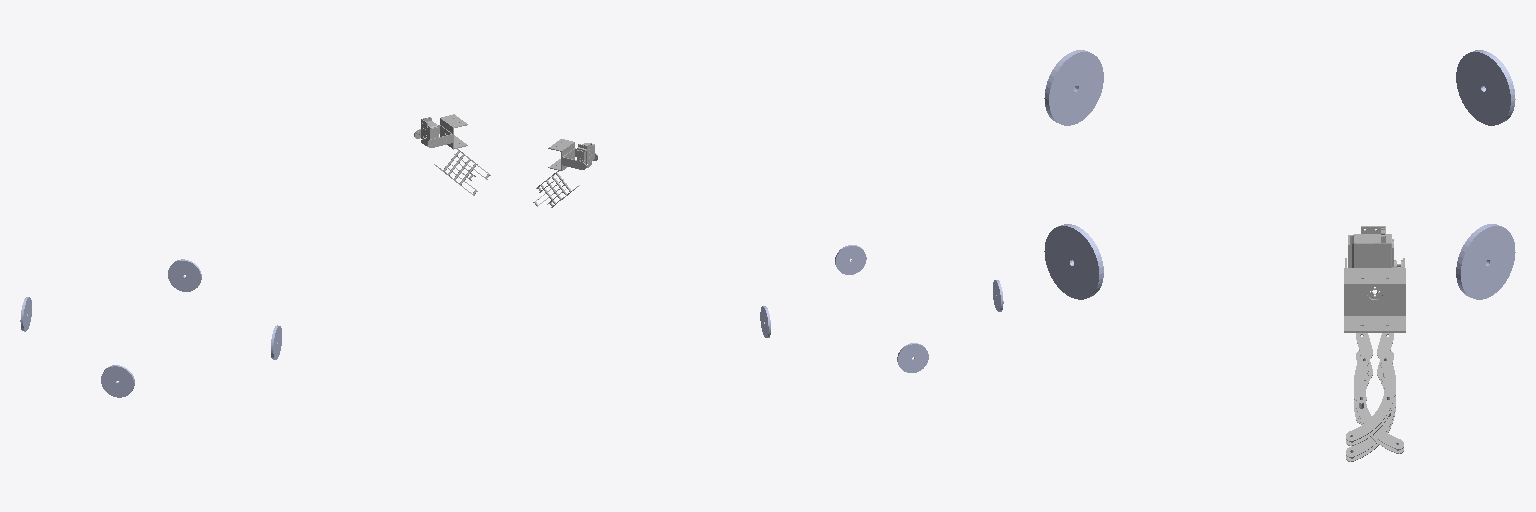
robot.urdf — homeplus_urdf:

<robot name="homeplus_urdf">
  <link name="world"/>
  <joint name="base_x" type="prismatic">
    <parent link="world"/>
    <child link="base_x_link"/>
    <origin xyz="0 0 0" rpy="0 0 0"/>
    <axis xyz="1 0 0"/>
    <limit lower="-10" upper="10" effort="1000" velocity="1"/>
  </joint>
  <link name="base_x_link"/>
  <joint name="base_y" type="prismatic">
    <parent link="base_x_link"/>
    <child link="base_y_link"/>
    <origin xyz="0 0 0" rpy="0 0 0"/>
    <axis xyz="0 1 0"/>
    <limit lower="-10" upper="10" effort="1000" velocity="1"/>
  </joint>
  <link name="base_y_link"/>
  <joint name="base_theta" type="continuous">
    <parent link="base_y_link"/>
    <child link="base"/>
    <origin xyz="0 0 0" rpy="0 0 0"/>
    <axis xyz="0 0 1"/>
    <limit effort="1000" velocity="1"/>
  </joint>
  
  <link
    name="base">
    <inertial>
      <origin
        xyz="5.36687302932215E-07 5.36687302016281E-07 0.0698335734039721"
        rpy="0 0 0" />
      <mass
        value="1.93599733287841" />
      <inertia
        ixx="0.00763024520313416"
        ixy="5.63522720337797E-07"
        ixz="3.13778475182127E-09"
        iyy="0.0075494508667239"
        iyz="-3.13792658746155E-09"
        izz="0.002529154108625" />
    </inertial>
    <visual>
      <origin
        xyz="0 0 0"
        rpy="0 0 0" />
      <geometry>
        <mesh
          filename="package://homeplus_urdf/meshes/base.STL" />
      </geometry>
      <material
        name="">
        <color
          rgba="0.752941176470588 0.752941176470588 0.752941176470588 1" />
      </material>
    </visual>
    <collision>
      <origin
        xyz="0 0 0"
        rpy="0 0 0" />
      <geometry>
        <mesh
          filename="package://homeplus_urdf/meshes/base.STL" />
      </geometry>
    </collision>
  </link>
  <link
    name="Frame">
    <inertial>
      <origin
        xyz="0.201896542252504 0.0799990907117468 -0.0342714033622259"
        rpy="0 0 0" />
      <mass
        value="3.29967833042039" />
      <inertia
        ixx="0.0339685155112727"
        ixy="2.44583411704262E-06"
        ixz="-0.00082022948549501"
        iyy="0.0344616286643939"
        iyz="4.66669657135815E-11"
        izz="0.00669916365911231" />
    </inertial>
    <visual>
      <origin
        xyz="0 0 0"
        rpy="0 0 0" />
      <geometry>
        <mesh
          filename="package://homeplus_urdf/meshes/Frame.STL" />
      </geometry>
      <material
        name="">
        <color
          rgba="0.752941176470588 0.752941176470588 0.752941176470588 1" />
      </material>
    </visual>
    <collision>
      <origin
        xyz="0 0 0"
        rpy="0 0 0" />
      <geometry>
        <mesh
          filename="package://homeplus_urdf/meshes/Frame.STL" />
      </geometry>
    </collision>
  </link>
  <joint
    name="JointFrame"
    type="prismatic">
    <origin
      xyz="-0.18 -0.08398 0.283"
      rpy="0 0 0" />
    <parent
      link="base" />
    <child
      link="Frame" />
    <axis
      xyz="0 0 1" />
    <limit
      lower="0"
      upper="0.15"
      effort="1"
      velocity="1" />
  </joint>
  <link
    name="Telescope">
    <inertial>
      <origin
        xyz="0.000771729775495889 0.000437143680824342 -0.104187938876505"
        rpy="0 0 0" />
      <mass
        value="0.251949298778275" />
      <inertia
        ixx="0.00285644942984616"
        ixy="8.99244714545801E-11"
        ixz="-1.6278133894529E-09"
        iyy="0.00286169389796737"
        iyz="9.5798002526495E-08"
        izz="3.17904819039154E-05" />
    </inertial>
    <visual>
      <origin
        xyz="0 0 0"
        rpy="0 0 0" />
      <geometry>
        <mesh
          filename="package://homeplus_urdf/meshes/Telescope.STL" />
      </geometry>
      <material
        name="">
        <color
          rgba="0.752941176470588 0.752941176470588 0.752941176470588 1" />
      </material>
    </visual>
    <collision>
      <origin
        xyz="0 0 0"
        rpy="0 0 0" />
      <geometry>
        <mesh
          filename="package://homeplus_urdf/meshes/Telescope.STL" />
      </geometry>
    </collision>
  </link>
  <joint
    name="JointTelescope"
    type="prismatic">
    <origin
      xyz="0.285 0.08398 0.477"
      rpy="0 0 0" />
    <parent
      link="Frame" />
    <child
      link="Telescope" />
    <axis
      xyz="0 0 1" />
    <limit
      lower="0"
      upper="0.43"
      effort="1"
      velocity="1" />
  </joint>
  <link
    name="Arm1">
    <inertial>
      <origin
        xyz="0.231608117533619 0.0255523612695389 -0.231607123025033"
        rpy="0 0 0" />
      <mass
        value="0.142458692559679" />
      <inertia
        ixx="0.000344048781743376"
        ixy="6.78781398843054E-08"
        ixz="0.000303370900150246"
        iyy="0.000670896160973874"
        iyz="-6.8032670316871E-08"
        izz="0.000344045727501834" />
    </inertial>
    <visual>
      <origin
        xyz="0 0 0"
        rpy="0 0 0" />
      <geometry>
        <mesh
          filename="package://homeplus_urdf/meshes/Arm1.STL" />
      </geometry>
      <material
        name="">
        <color
          rgba="0.752941176470588 0.752941176470588 0.752941176470588 1" />
      </material>
    </visual>
    <collision>
      <origin
        xyz="0 0 0"
        rpy="0 0 0" />
      <geometry>
        <mesh
          filename="package://homeplus_urdf/meshes/Arm1.STL" />
      </geometry>
    </collision>
  </link>
  <joint
    name="JointArm1"
    type="revolute">
    <origin
      xyz="0 0.027951 0.093587"
      rpy="0 0 0" />
    <parent
      link="Telescope" />
    <child
      link="Arm1" />
    <axis
      xyz="0 -1 0" />
    <limit
      lower="-0.7854"
      upper="2.4435"
      effort="1"
      velocity="1" />
  </joint>
  <link
    name="Arm2">
    <inertial>
      <origin
        xyz="0.229877453875047 -0.00821863334885756 -0.231410969608228"
        rpy="0 0 0" />
      <mass
        value="0.116165387072632" />
      <inertia
        ixx="0.000263865689307406"
        ixy="1.15597043757505E-09"
        ixz="0.000220534688604804"
        iyy="0.000506000074754496"
        iyz="1.00178635705143E-09"
        izz="0.000264057896540768" />
    </inertial>
    <visual>
      <origin
        xyz="0 0 0"
        rpy="0 0 0" />
      <geometry>
        <mesh
          filename="package://homeplus_urdf/meshes/Arm2.STL" />
      </geometry>
      <material
        name="">
        <color
          rgba="0.752941176470588 0.752941176470588 0.752941176470588 1" />
      </material>
    </visual>
    <collision>
      <origin
        xyz="0 0 0"
        rpy="0 0 0" />
      <geometry>
        <mesh
          filename="package://homeplus_urdf/meshes/Arm2.STL" />
      </geometry>
    </collision>
  </link>
  <joint
    name="JointArm2"
    type="revolute">
    <origin
      xyz="0.31439 0.0665 -0.31439"
      rpy="0 0 0" />
    <parent
      link="Arm1" />
    <child
      link="Arm2" />
    <axis
      xyz="0 -1 0" />
    <limit
      lower="-1.274"
      upper="2.932"
      effort="1"
      velocity="1" />
  </joint>
  <link
    name="Wrist">
    <inertial>
      <origin
        xyz="0.00821485527606913 0.00862941103056888 -0.00834029232738279"
        rpy="0 0 0" />
      <mass
        value="0.0363561056351056" />
      <inertia
        ixx="8.21468554621405E-06"
        ixy="1.10422688179401E-07"
        ixz="-2.10661583523176E-06"
        iyy="6.65835103821054E-06"
        iyz="-4.81256546213012E-08"
        izz="8.21542228204658E-06" />
    </inertial>
    <visual>
      <origin
        xyz="0 0 0"
        rpy="0 0 0" />
      <geometry>
        <mesh
          filename="package://homeplus_urdf/meshes/Wrist.STL" />
      </geometry>
      <material
        name="">
        <color
          rgba="0.752941176470588 0.752941176470588 0.752941176470588 1" />
      </material>
    </visual>
    <collision>
      <origin
        xyz="0 0 0"
        rpy="0 0 0" />
      <geometry>
        <mesh
          filename="package://homeplus_urdf/meshes/Wrist.STL" />
      </geometry>
    </collision>
  </link>
  <joint
    name="JointWrist"
    type="revolute">
    <origin
      xyz="0.28806 -0.0175 -0.32191"
      rpy="0 0 0" />
    <parent
      link="Arm2" />
    <child
      link="Wrist" />
    <axis
      xyz="0.70711 0 -0.70711" />
    <limit
      lower="-1.396"
      upper="1.396"
      effort="1"
      velocity="1" />
  </joint>
  <link
    name="Hand">
    <inertial>
      <origin
        xyz="0.0360909126870599 -0.0235637345554119 -0.036090912687017"
        rpy="0 0 0" />
      <mass
        value="0.0198930486204882" />
      <inertia
        ixx="1.2451533035291E-05"
        ixy="-6.44244955922808E-19"
        ixz="-7.36497990245303E-07"
        iyy="9.95405369555553E-06"
        iyz="4.69179038678503E-19"
        izz="1.24515330352891E-05" />
    </inertial>
    <visual>
      <origin
        xyz="0 0 0"
        rpy="0 0 0" />
      <geometry>
        <mesh
          filename="package://homeplus_urdf/meshes/Hand.STL" />
      </geometry>
      <material
        name="">
        <color
          rgba="0.752941176470588 0.752941176470588 0.752941176470588 1" />
      </material>
    </visual>
    <collision>
      <origin
        xyz="0 0 0"
        rpy="0 0 0" />
      <geometry>
        <mesh
          filename="package://homeplus_urdf/meshes/Hand.STL" />
      </geometry>
    </collision>
  </link>
  <joint
    name="JointHand"
    type="revolute">
    <origin
      xyz="0.0026623 0.035169 -0.015015"
      rpy="0 0 0" />
    <parent
      link="Wrist" />
    <child
      link="Hand" />
    <axis
      xyz="0 -1 0" />
    <limit
      lower="-1.571"
      upper="1.309"
      effort="1"
      velocity="1" />
  </joint>
  <link
    name="FingerL">
    <inertial>
      <origin
        xyz="0.0218255753338862 -0.00724008001230267 -0.0593022347367217"
        rpy="0 0 0" />
      <mass
        value="0.00826272704567777" />
      <inertia
        ixx="3.91242754529497E-06"
        ixy="1.16329023022E-06"
        ixz="2.94673322850978E-06"
        iyy="6.02166319912774E-06"
        iyz="-1.16329023021855E-06"
        izz="3.91242754530252E-06" />
    </inertial>
    <visual>
      <origin
        xyz="0 0 0"
        rpy="0 0 0" />
      <geometry>
        <mesh
          filename="package://homeplus_urdf/meshes/FingerL.STL" />
      </geometry>
      <material
        name="">
        <color
          rgba="0.752941176470588 0.752941176470588 0.752941176470588 1" />
      </material>
    </visual>
    <collision>
      <origin
        xyz="0 0 0"
        rpy="0 0 0" />
      <geometry>
        <mesh
          filename="package://homeplus_urdf/meshes/FingerL.STL" />
      </geometry>
    </collision>
  </link>
  <joint
    name="JointFingerL"
    type="revolute">
    <origin
      xyz="0.071418 -0.012 -0.036062"
      rpy="0 0 0" />
    <parent
      link="Hand" />
    <child
      link="FingerL" />
    <axis
      xyz="0.70711 0 0.70711" />
    <limit
      lower="0"
      upper="1.5708"
      effort="1"
      velocity="1" />
  </joint>
  <link
    name="FingerR">
    <inertial>
      <origin
        xyz="0.0163533589374076 0.00457292966685408 -0.053830018340248"
        rpy="0 0 0" />
      <mass
        value="0.00654686444830018" />
      <inertia
        ixx="1.8640335430842E-06"
        ixy="-4.46804795842902E-07"
        ixz="1.35953847821751E-06"
        iyy="2.79431749639908E-06"
        iyz="4.46804795842274E-07"
        izz="1.86403354308785E-06" />
    </inertial>
    <visual>
      <origin
        xyz="0 0 0"
        rpy="0 0 0" />
      <geometry>
        <mesh
          filename="package://homeplus_urdf/meshes/FingerR.STL" />
      </geometry>
      <material
        name="">
        <color
          rgba="0.752941176470588 0.752941176470588 0.752941176470588 1" />
      </material>
    </visual>
    <collision>
      <origin
        xyz="0 0 0"
        rpy="0 0 0" />
      <geometry>
        <mesh
          filename="package://homeplus_urdf/meshes/FingerR.STL" />
      </geometry>
    </collision>
  </link>
  <joint
    name="JointFingerR"
    type="revolute">
    <origin
      xyz="0.071418 -0.036 -0.036062"
      rpy="0 0 0" />
    <parent
      link="Hand" />
    <child
      link="FingerR" />
    <axis
      xyz="-0.70711 0 -0.70711" />
    <limit
      lower="0"
      upper="1.5708"
      effort="1"
      velocity="1" />
    <mimic
      joint="JointFingerL"
      multiplier="1"
      offset="0" />
  </joint>
  <link
    name="WheelFL">
    <inertial>
      <origin
        xyz="-0.00221199790886903 -0.00203064277825026 -2.08166817117217E-17"
        rpy="0 0 0" />
      <mass
        value="0.024229926039893" />
      <inertia
        ixx="1.19080621671214E-05"
        ixy="3.92089420362736E-06"
        ixz="-5.75732396144862E-21"
        iyy="1.19080621671214E-05"
        iyz="-4.47858125197631E-21"
        izz="7.98716796349408E-06" />
    </inertial>
    <visual>
      <origin
        xyz="0 0 0"
        rpy="0 0 0" />
      <geometry>
        <mesh
          filename="package://homeplus_urdf/meshes/WheelFL.STL" />
      </geometry>
      <material
        name="">
        <color
          rgba="0.792156862745098 0.819607843137255 0.933333333333333 1" />
      </material>
    </visual>
    <collision>
      <origin
        xyz="0 0 0"
        rpy="0 0 0" />
      <geometry>
        <mesh
          filename="package://homeplus_urdf/meshes/WheelFL.STL" />
      </geometry>
    </collision>
  </link>
  <joint
    name="JointWheelFL"
    type="continuous">
    <origin
      xyz="0.19317 0.19299 -0.033"
      rpy="0 0 0" />
    <parent
      link="base" />
    <child
      link="WheelFL" />
    <axis
      xyz="0.70711 0.70711 0" />
    <limit
      effort="1"
      velocity="1" />
  </joint>
  <link
    name="WheelFR">
    <inertial>
      <origin
        xyz="-0.00212132034355968 0.00212132034355966 6.93889390390723E-18"
        rpy="0 0 0" />
      <mass
        value="0.024229926039893" />
      <inertia
        ixx="1.19080621671215E-05"
        ixy="-3.92089420362737E-06"
        ixz="1.64880775117558E-21"
        iyy="1.19080621671215E-05"
        iyz="-1.5934710140752E-21"
        izz="7.9871679634941E-06" />
    </inertial>
    <visual>
      <origin
        xyz="0 0 0"
        rpy="0 0 0" />
      <geometry>
        <mesh
          filename="package://homeplus_urdf/meshes/WheelFR.STL" />
      </geometry>
      <material
        name="">
        <color
          rgba="0.792156862745098 0.819607843137255 0.933333333333333 1" />
      </material>
    </visual>
    <collision>
      <origin
        xyz="0 0 0"
        rpy="0 0 0" />
      <geometry>
        <mesh
          filename="package://homeplus_urdf/meshes/WheelFR.STL" />
      </geometry>
    </collision>
  </link>
  <joint
    name="JointWheelFR"
    type="continuous">
    <origin
      xyz="0.19308 -0.19308 -0.033"
      rpy="0 0 0" />
    <parent
      link="base" />
    <child
      link="WheelFR" />
    <axis
      xyz="-0.70711 0.70711 0" />
    <limit
      effort="1"
      velocity="1" />
  </joint>
  <link
    name="WheelBL">
    <inertial>
      <origin
        xyz="0.00212132034355966 -0.00212132034355965 -6.93889390390723E-18"
        rpy="0 0 0" />
      <mass
        value="0.0242299260398929" />
      <inertia
        ixx="1.19080621671214E-05"
        ixy="-3.92089420362736E-06"
        ixz="-6.89559011753301E-21"
        iyy="1.19080621671215E-05"
        iyz="5.66640417014397E-21"
        izz="7.98716796349408E-06" />
    </inertial>
    <visual>
      <origin
        xyz="0 0 0"
        rpy="0 0 0" />
      <geometry>
        <mesh
          filename="package://homeplus_urdf/meshes/WheelBL.STL" />
      </geometry>
      <material
        name="">
        <color
          rgba="0.792156862745098 0.819607843137255 0.933333333333333 1" />
      </material>
    </visual>
    <collision>
      <origin
        xyz="0 0 0"
        rpy="0 0 0" />
      <geometry>
        <mesh
          filename="package://homeplus_urdf/meshes/WheelBL.STL" />
      </geometry>
    </collision>
  </link>
  <joint
    name="JointWheelBL"
    type="continuous">
    <origin
      xyz="-0.19308 0.19308 -0.033"
      rpy="0 0 0" />
    <parent
      link="base" />
    <child
      link="WheelBL" />
    <axis
      xyz="-0.70711 0.70711 0" />
    <limit
      effort="1"
      velocity="1" />
  </joint>
  <link
    name="WheelBR">
    <inertial>
      <origin
        xyz="0.00212132034355966 0.00212132034355961 0"
        rpy="0 0 0" />
      <mass
        value="0.0242299260398931" />
      <inertia
        ixx="1.19080621671215E-05"
        ixy="3.92089420362738E-06"
        ixz="-1.37844200497226E-22"
        iyy="1.19080621671215E-05"
        iyz="-1.37844200497228E-22"
        izz="7.98716796349412E-06" />
    </inertial>
    <visual>
      <origin
        xyz="0 0 0"
        rpy="0 0 0" />
      <geometry>
        <mesh
          filename="package://homeplus_urdf/meshes/WheelBR.STL" />
      </geometry>
      <material
        name="">
        <color
          rgba="0.792156862745098 0.819607843137255 0.933333333333333 1" />
      </material>
    </visual>
    <collision>
      <origin
        xyz="0 0 0"
        rpy="0 0 0" />
      <geometry>
        <mesh
          filename="package://homeplus_urdf/meshes/WheelBR.STL" />
      </geometry>
    </collision>
  </link>
  <joint
    name="JointWheelBR"
    type="continuous">
    <origin
      xyz="-0.193081475451951 -0.193081475451951 -0.033"
      rpy="0 0 0" />
    <parent
      link="base" />
    <child
      link="WheelBR" />
    <axis
      xyz="0.707106781186548 0.707106781186547 0" />
    <limit
      effort="1"
      velocity="1" />
  </joint>
  <link name="camera_link"/>
  <joint
    name="JointCameraMount"
    type="fixed">
    <origin
      xyz="0.06 -0.02 0.03"
      rpy="0 0 0" />
    <parent
      link="Hand" />
    <child
      link="camera_link" />
  </joint>
  <link name="camera_color_optical_frame"/>
  <joint
    name="JointCameraColorOptical"
    type="fixed">
    <origin
      xyz="0 0 0"
      rpy="-1.57079632679 0 -1.57079632679" />
    <parent
      link="camera_link" />
    <child
      link="camera_color_optical_frame" />
  </joint>
  <link name="camera_depth_optical_frame"/>
  <joint
    name="JointCameraDepthOptical"
    type="fixed">
    <origin
      xyz="0 0 0"
      rpy="-1.57079632679 0 -1.57079632679" />
    <parent
      link="camera_link" />
    <child
      link="camera_depth_optical_frame" />
  </joint>
</robot>

--- Facts derived from the render (not from the file) ---
Views: 3 orthographic renders of the robot side by side, from view 1: azimuth 30°, elevation 25°; view 2: azimuth 150°, elevation 25°; view 3: azimuth 270°, elevation 25°.
Model homeplus_urdf with 19 links and 18 joints (6 revolute, 5 continuous, 4 prismatic, 3 fixed), rooted at world, posed every joint at zero.
Visible links, largest first — view 1: WheelBR, WheelFL, Hand; view 2: WheelBL, WheelFR, Hand; view 3: Hand, WheelFL, WheelFR, WheelBR, WheelBL, FingerL, Wrist, FingerR.
Boxes of the visible links, x1,y1,x2,y2 form: WheelBR: [101, 365, 134, 397]; WheelFL: [168, 259, 201, 291]; Hand: [414, 114, 467, 149]; WheelBL: [897, 343, 928, 372]; WheelFR: [835, 245, 866, 274]; Hand: [548, 139, 597, 170]; Hand: [1344, 258, 1405, 332]; WheelFL: [1456, 224, 1515, 299]; WheelFR: [1044, 224, 1103, 299]; WheelBR: [1044, 50, 1103, 125]; WheelBL: [1456, 50, 1515, 125]; FingerL: [1346, 333, 1395, 461]; Wrist: [1348, 226, 1400, 267]; FingerR: [1354, 333, 1403, 453].
Size in the robot's own frame: 1.07 by 0.4371 by 0.3137 metres.
Meshes: 13 distinct files referenced, 8 mesh visuals loaded (8 binary STL); not drawn: 5 (reference not matched to a file when rendering).
